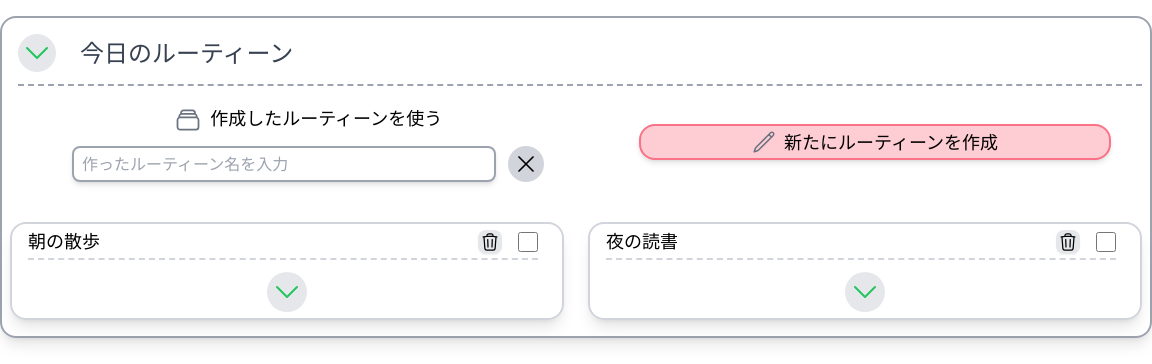
Test case: DailyRoutineのテスト › ×ボタンを押す => 入力欄が空になって名前が部分一致しているルーティーンが消えて、候補リストが消える
This screenshot has width=1152, height=364.
Type "筋" into the field with placeholder "作ったルーティーン名を入力" at [284, 164], box [72,146,496,182]
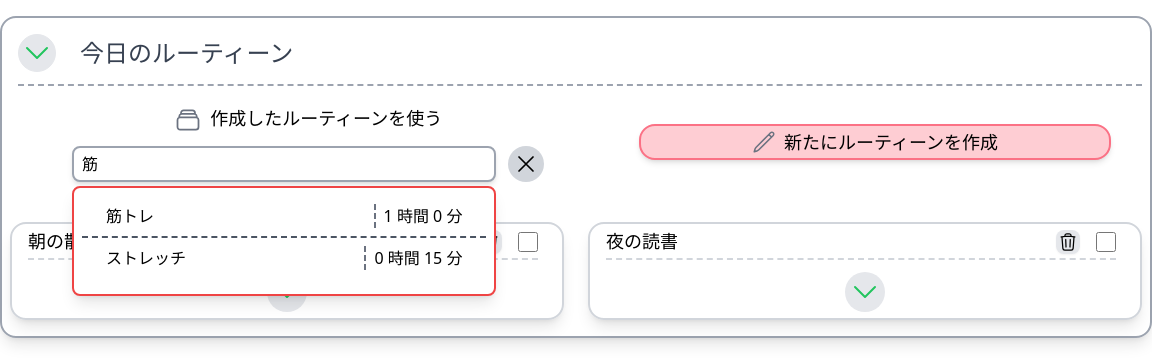
Check: the text "筋トレ" is shown, box [106,205,154,227]
# 削除ボタンをクリック
Click the element with test id "clear-button" at [526, 164], box [508,146,544,182]
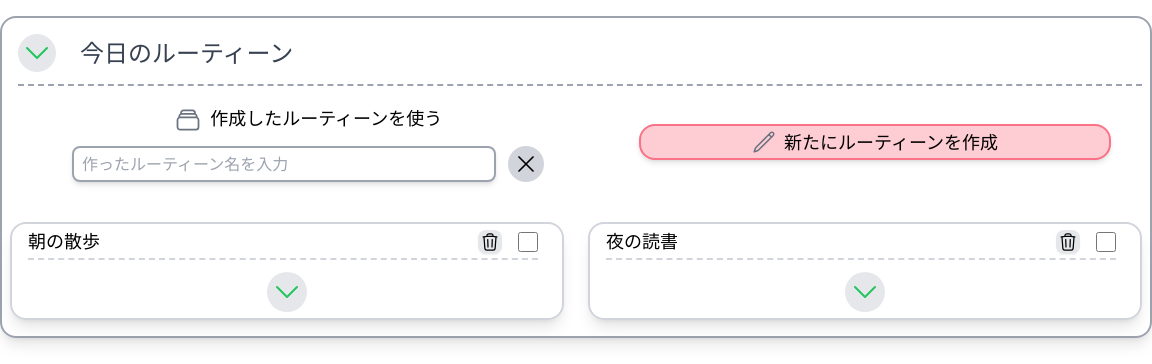
Check: the field with placeholder "作ったルーティーン名を入力" is empty, box [72,146,496,182]
Check: the text "筋トレ" is gone
